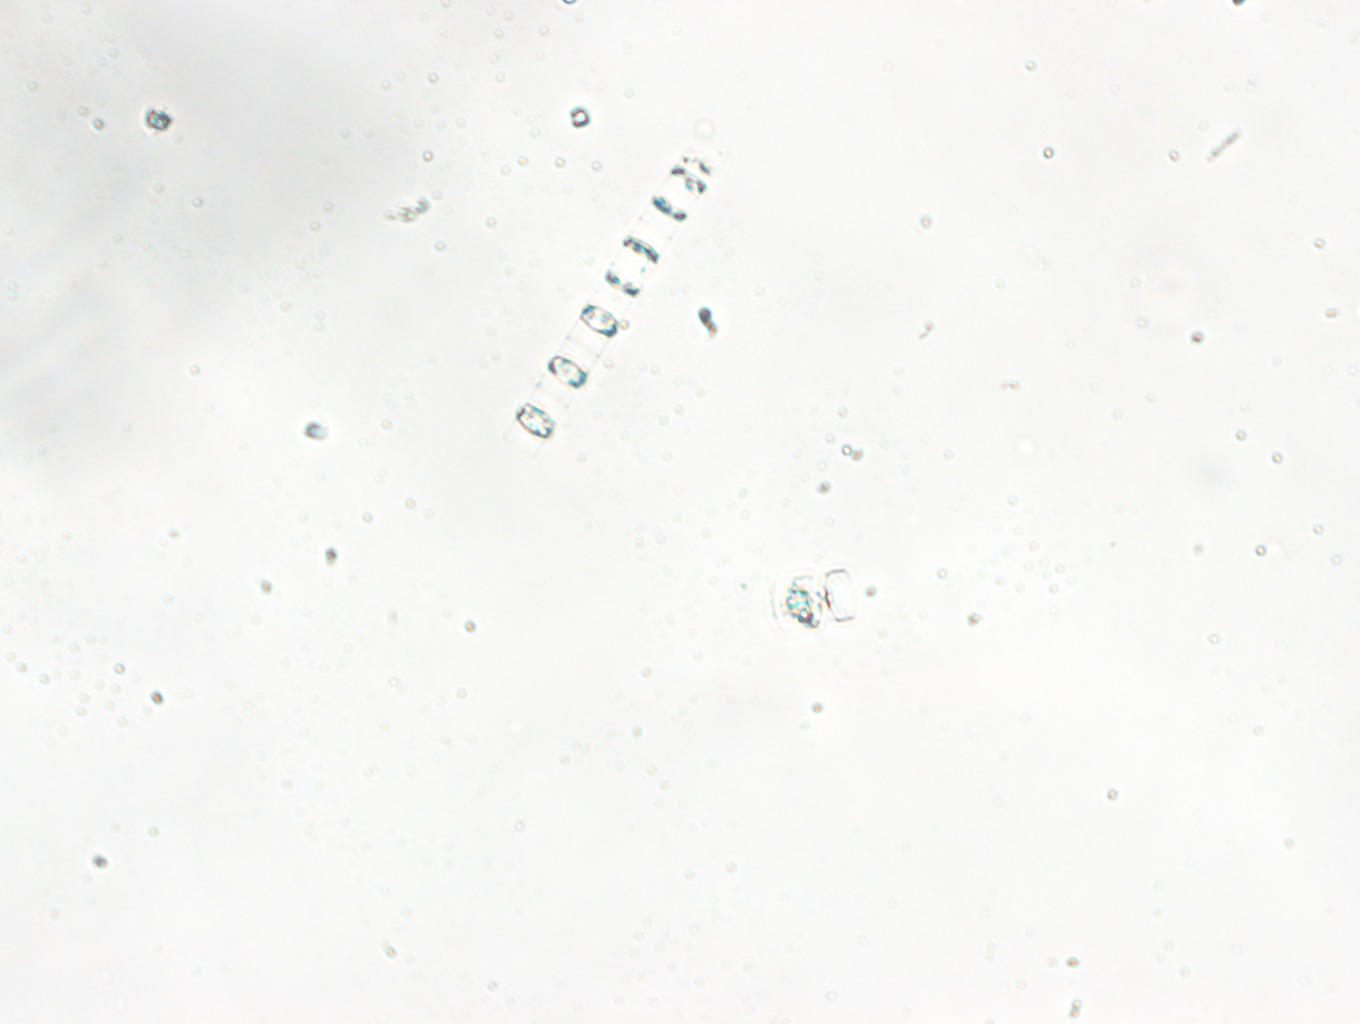skeletonema: (507, 143, 713, 459)
